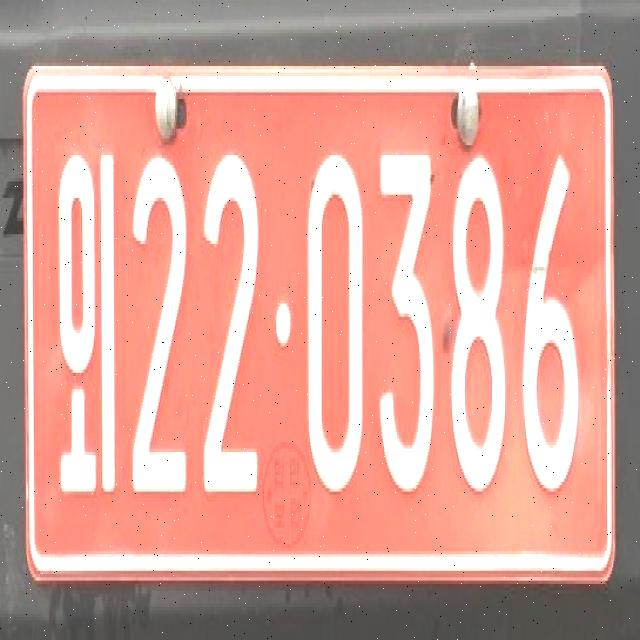licenseplate: (8, 37, 628, 612)
